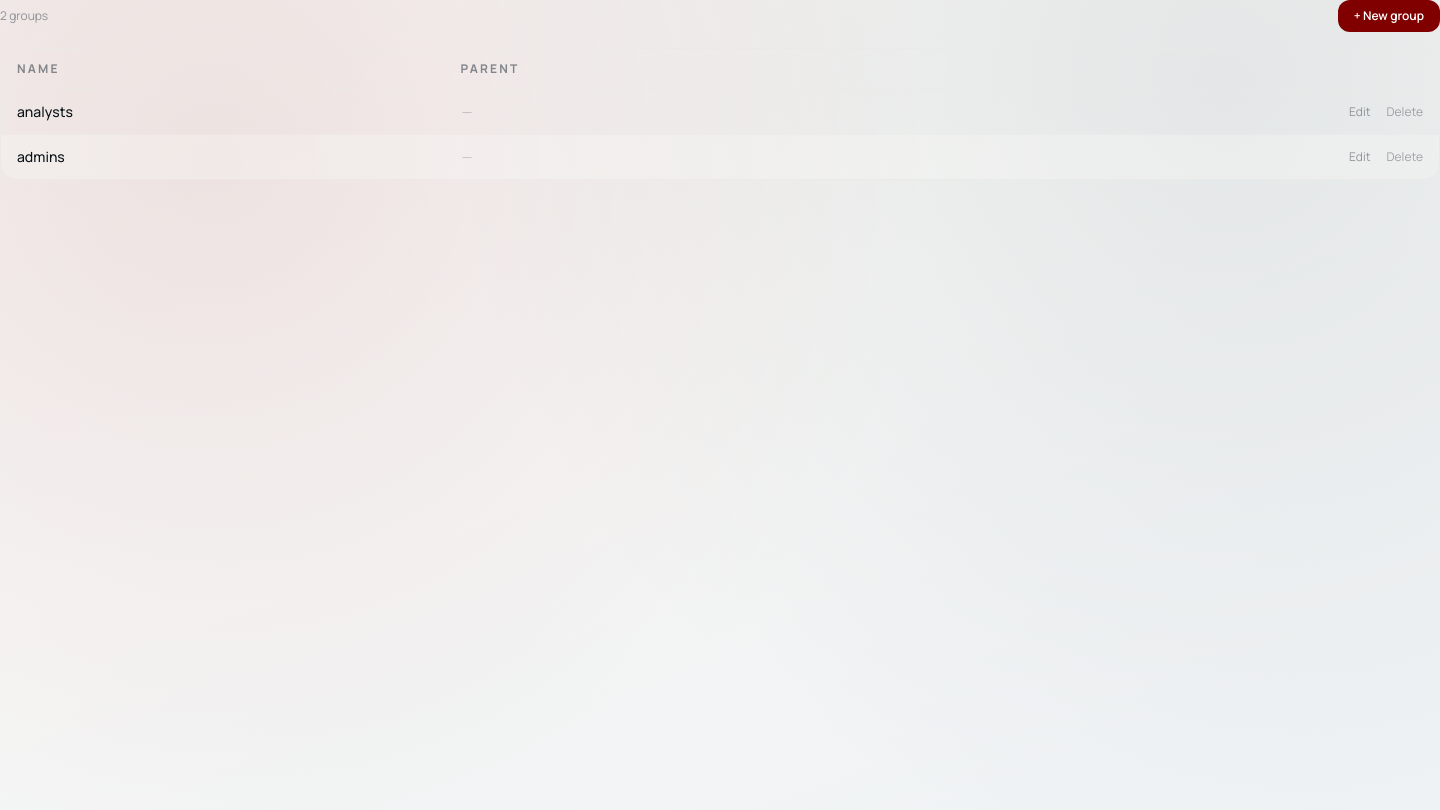
it: GroupsPanel – create group › opens the create modal when '+ New group' is clicked
Expected: the text "analysts" is shown, [1, 90, 445, 134]
Click the button "+ New group".
click(1389, 16)  # box [1338, 0, 1439, 32]
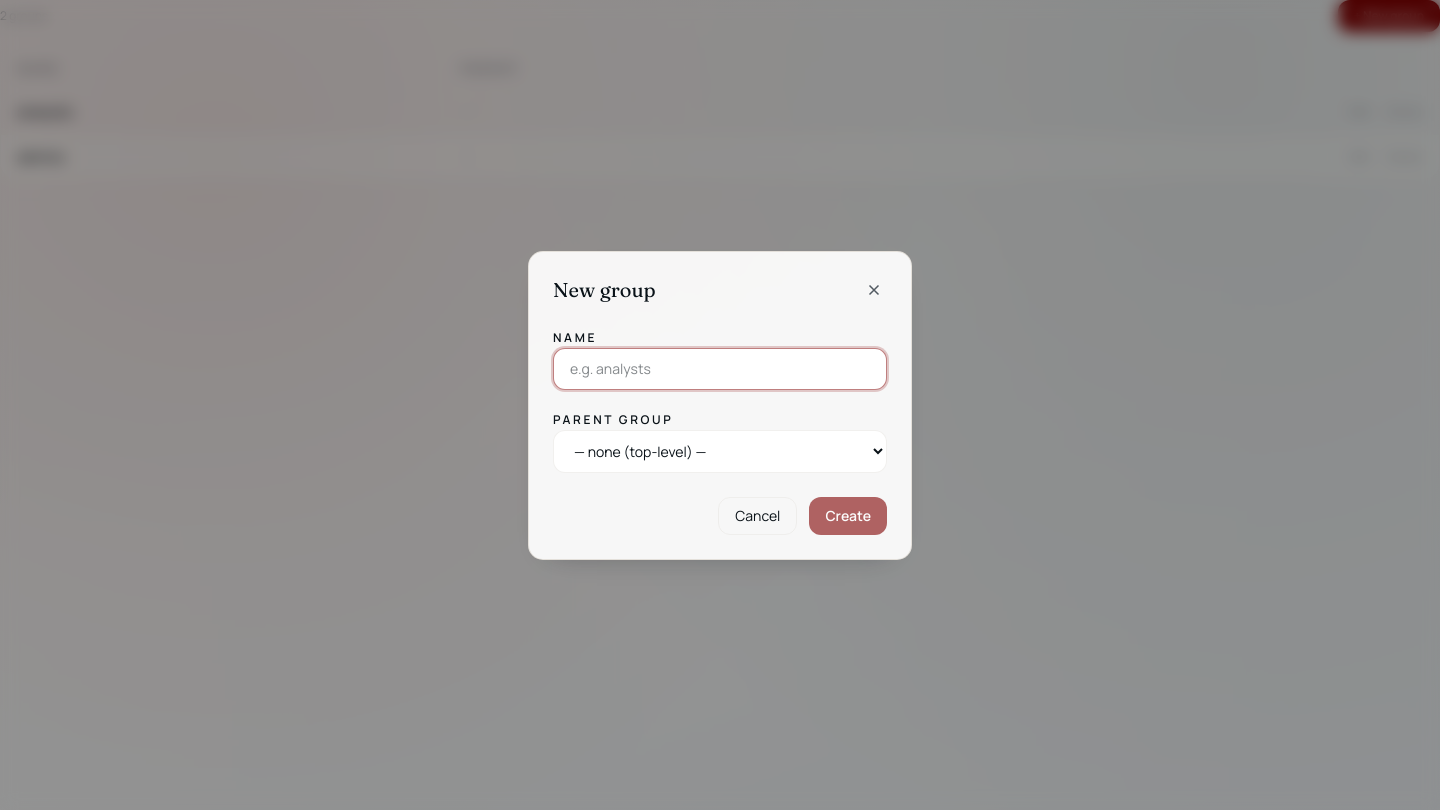
Result: the heading "New group" is shown at [553, 276, 656, 304]
